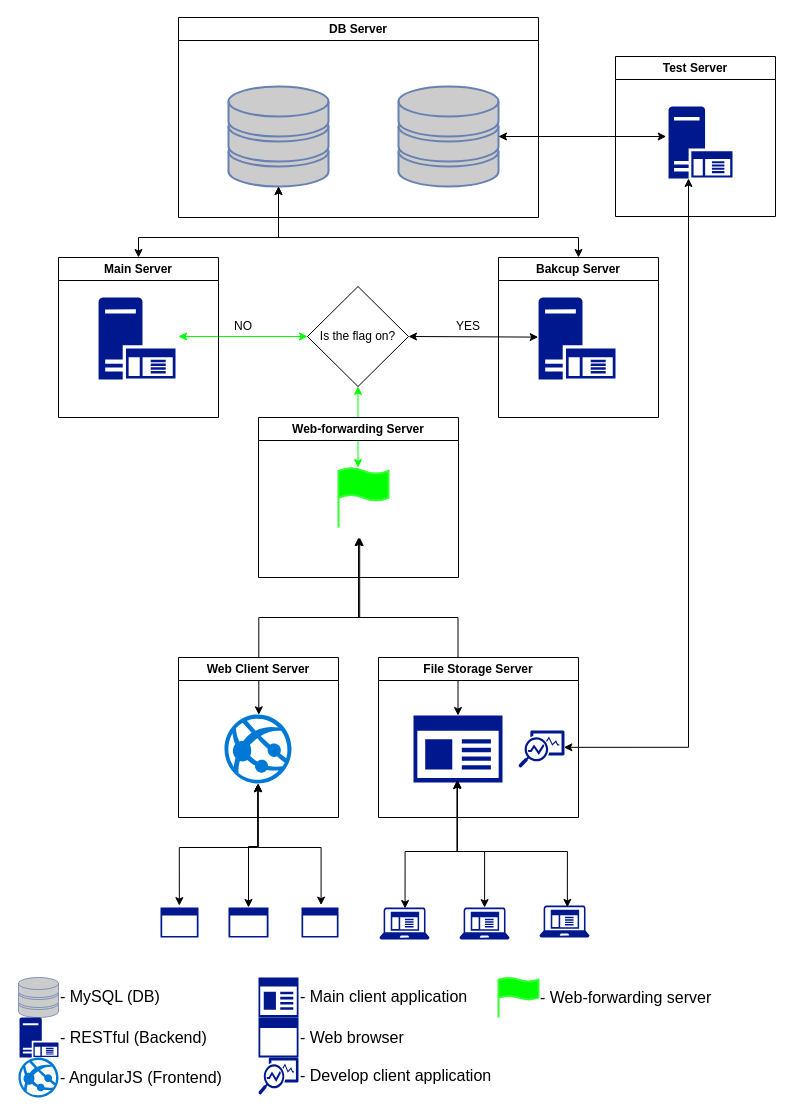
Some shapes in this 793 by 1115 pixel diagram are drawn without their labels. The shapes that lost their labels are listed below. From the top down, each one's centre as x and y in pixels, then its label:
At (278,136): "Main".
At (448,136): "Test".
At (363,497): "OFF".
